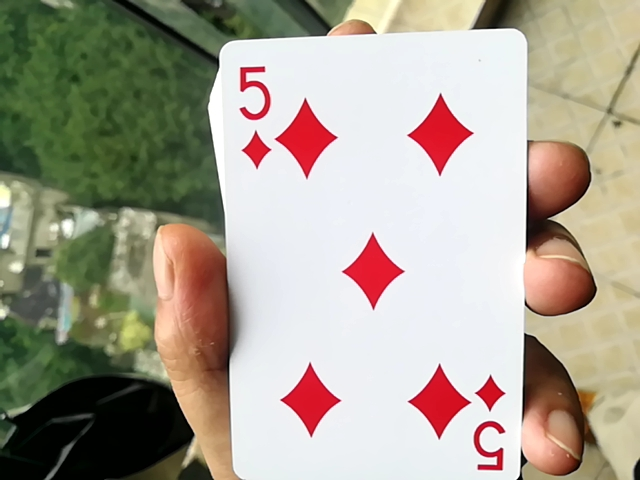fk 5: (194, 35, 539, 480)
